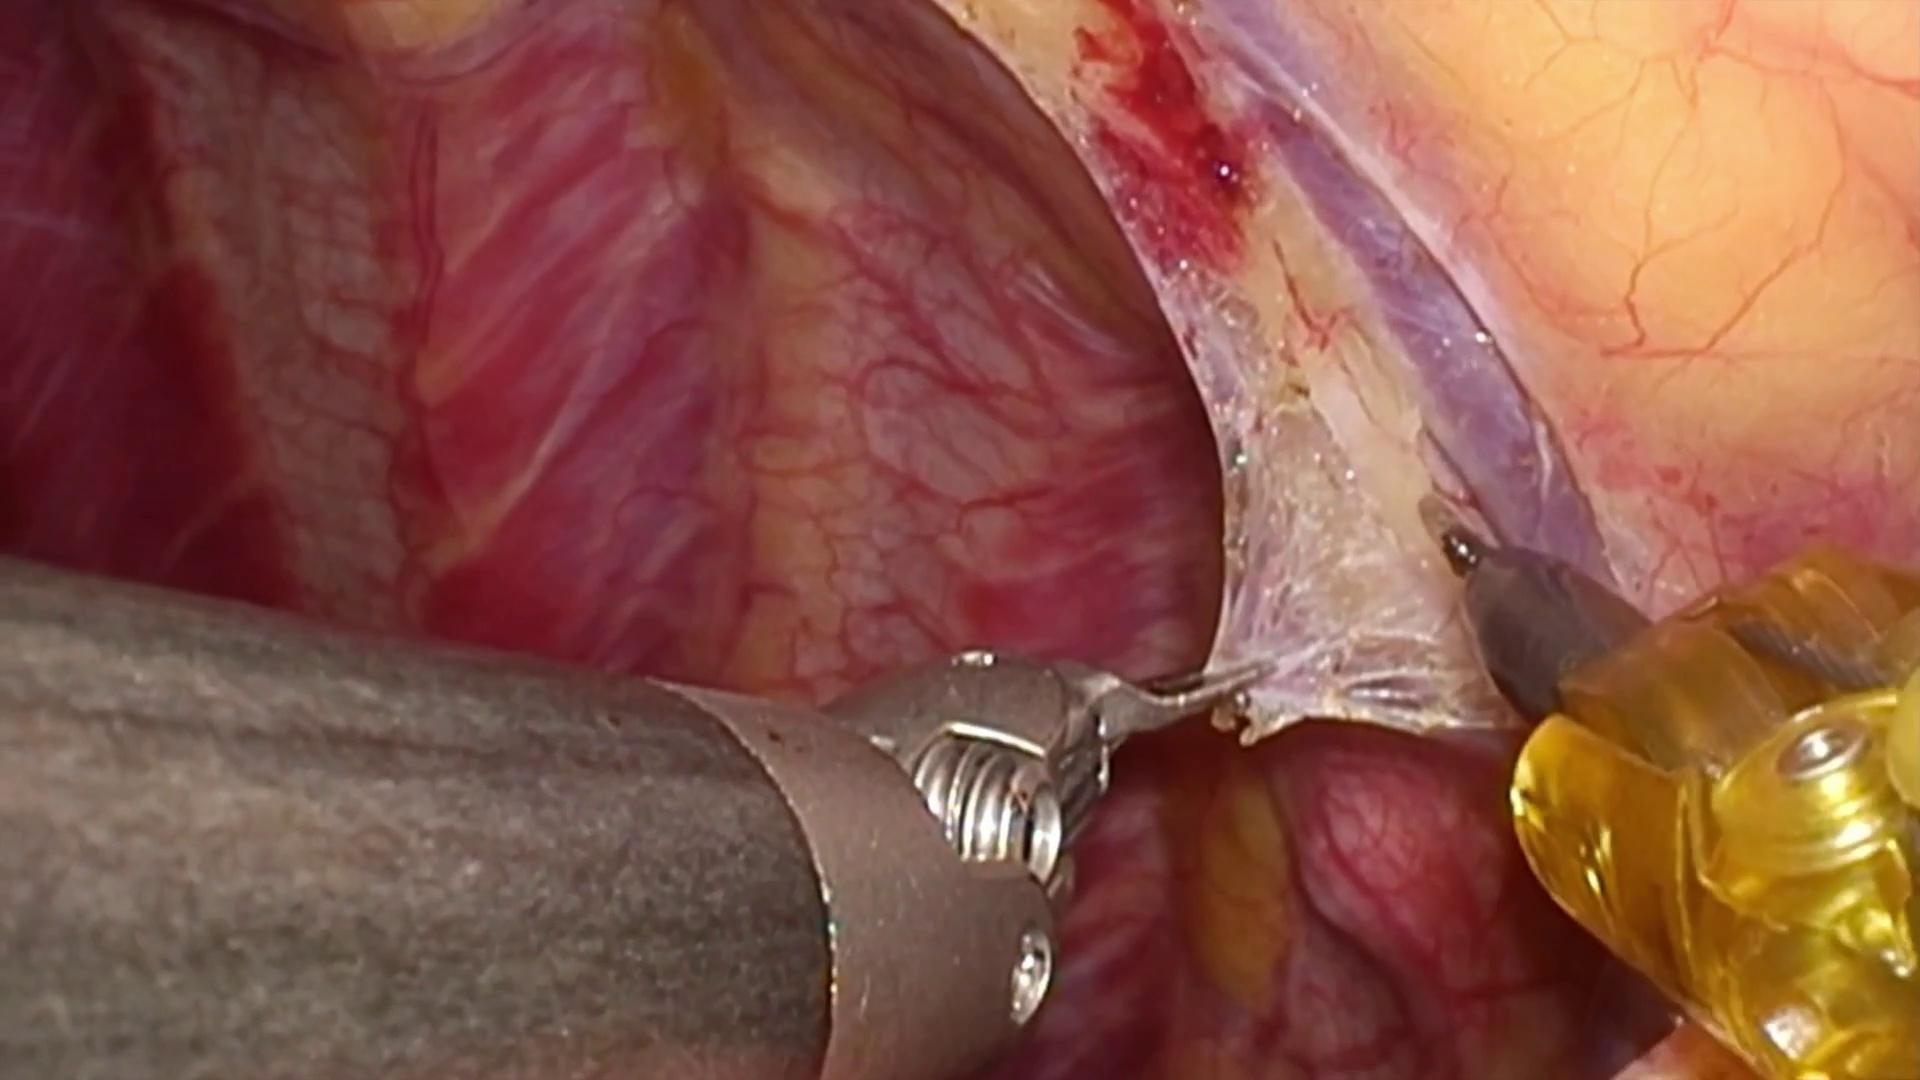Cautery_Spatula: (1416, 496, 1663, 735)
Debakey: (1050, 657, 1273, 790)
